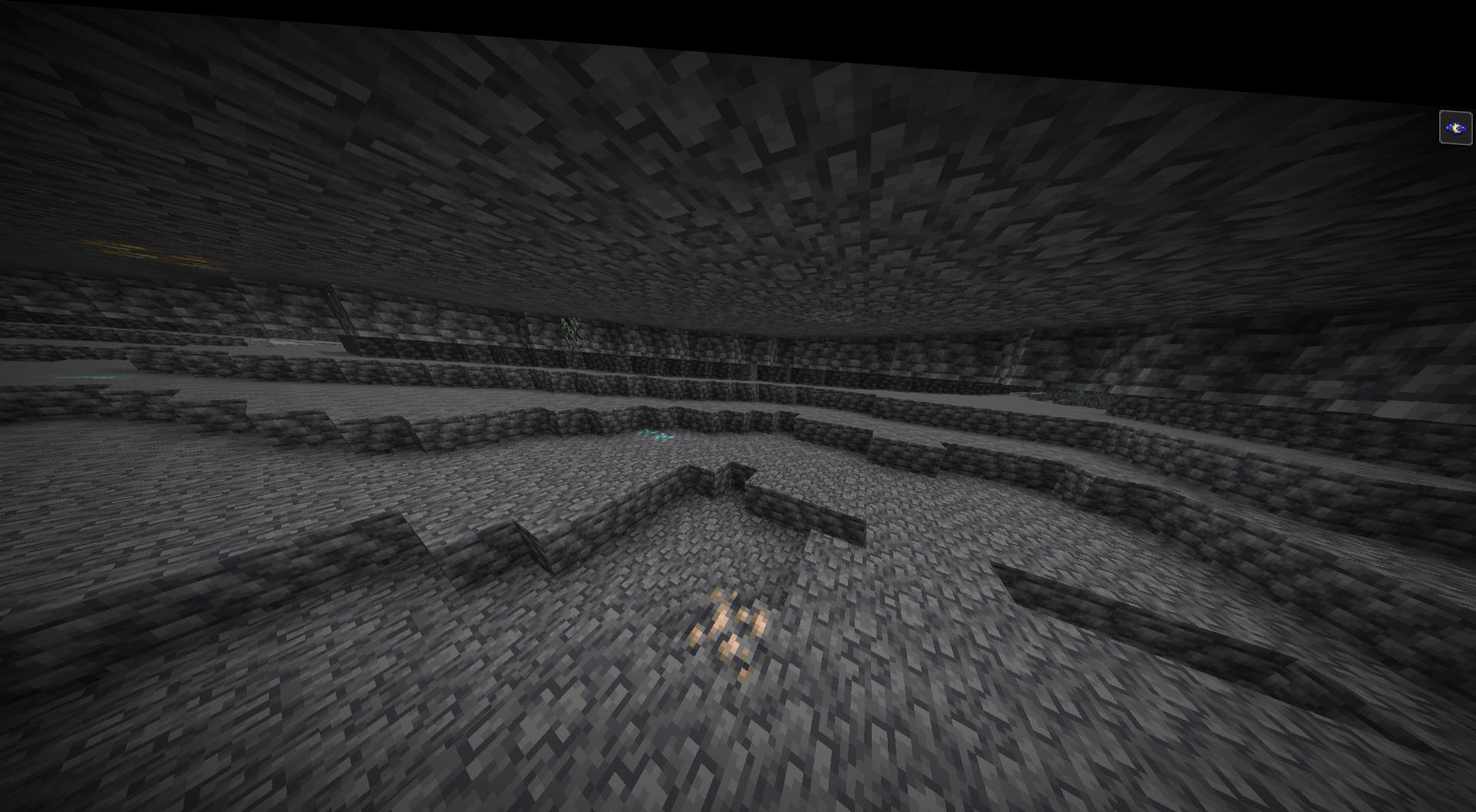diamond ore: (634, 407, 676, 438)
iron ore: (690, 572, 765, 665)
